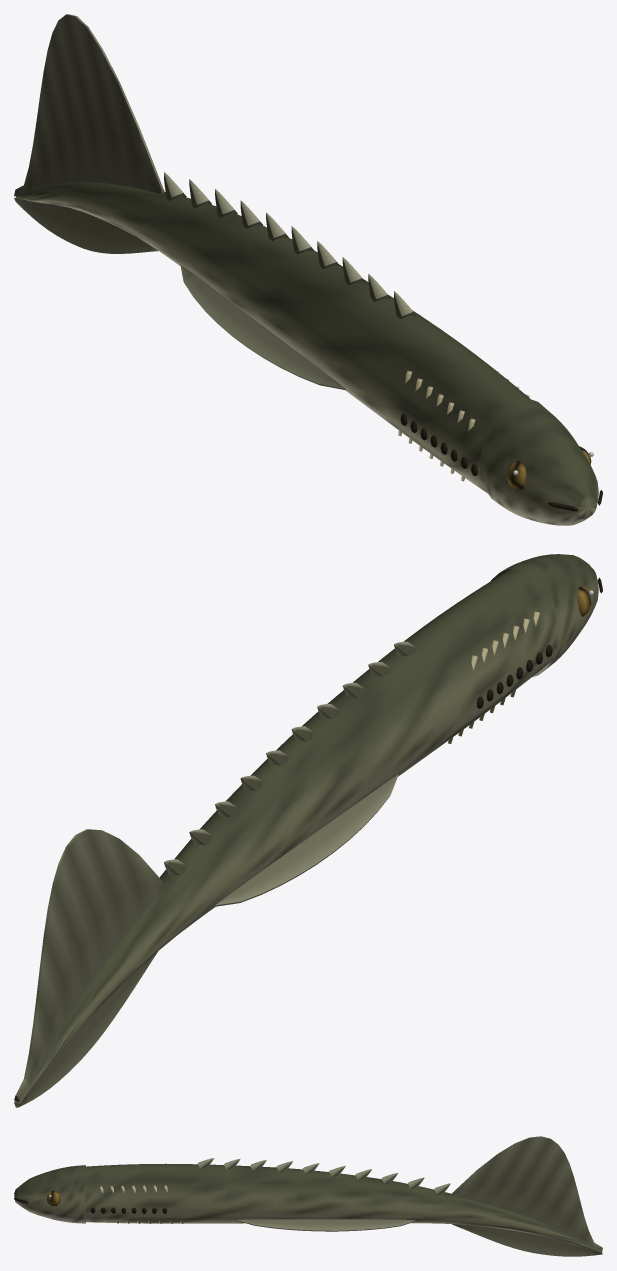
File: LasaniusProblematicus.fbx
The picture shows the model from 3 angles, top to bottom: view 1: azimuth 30°, elevation 25°; view 2: azimuth 150°, elevation 25°; view 3: azimuth 270°, elevation 25°; orthographic projection. The views are drawn at different scales.
Parts seen in each view (by area): view 1: LasaniusProblematicus; view 2: LasaniusProblematicus; view 3: LasaniusProblematicus.
Part boxes in pixels (x1,y1,x2,y2): LasaniusProblematicus: [14, 14, 602, 525]; LasaniusProblematicus: [14, 554, 602, 1107]; LasaniusProblematicus: [14, 1136, 602, 1256].
Bounding box in the file's own units: 0.1476 × 0.3695 × 1.64.
